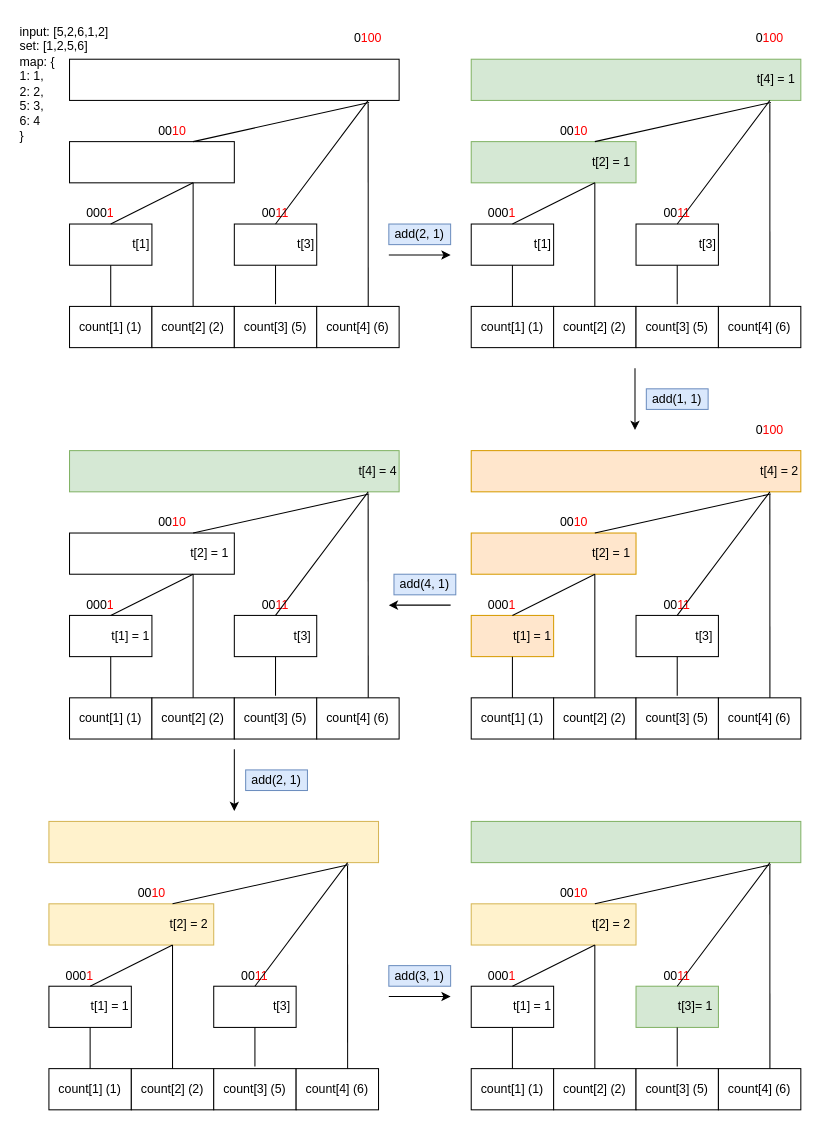
The diagram is 819 pixels wide and 1128 high, and some of its shapes have lost their labels. Here are the shapes that lost their labels. From the top down, the box of each, then its label:
(68, 58, 399, 100): t[4]
(68, 141, 234, 183): t[2]
(48, 820, 379, 863): t[4] = 5
(470, 820, 801, 863): t[4] = 6
